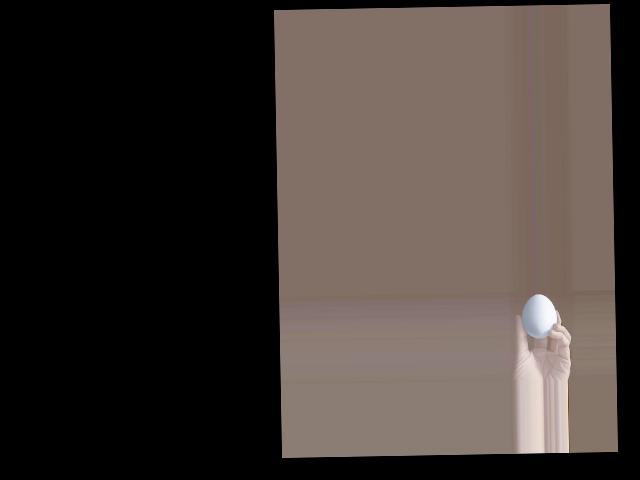egg: (522, 293, 557, 338)
